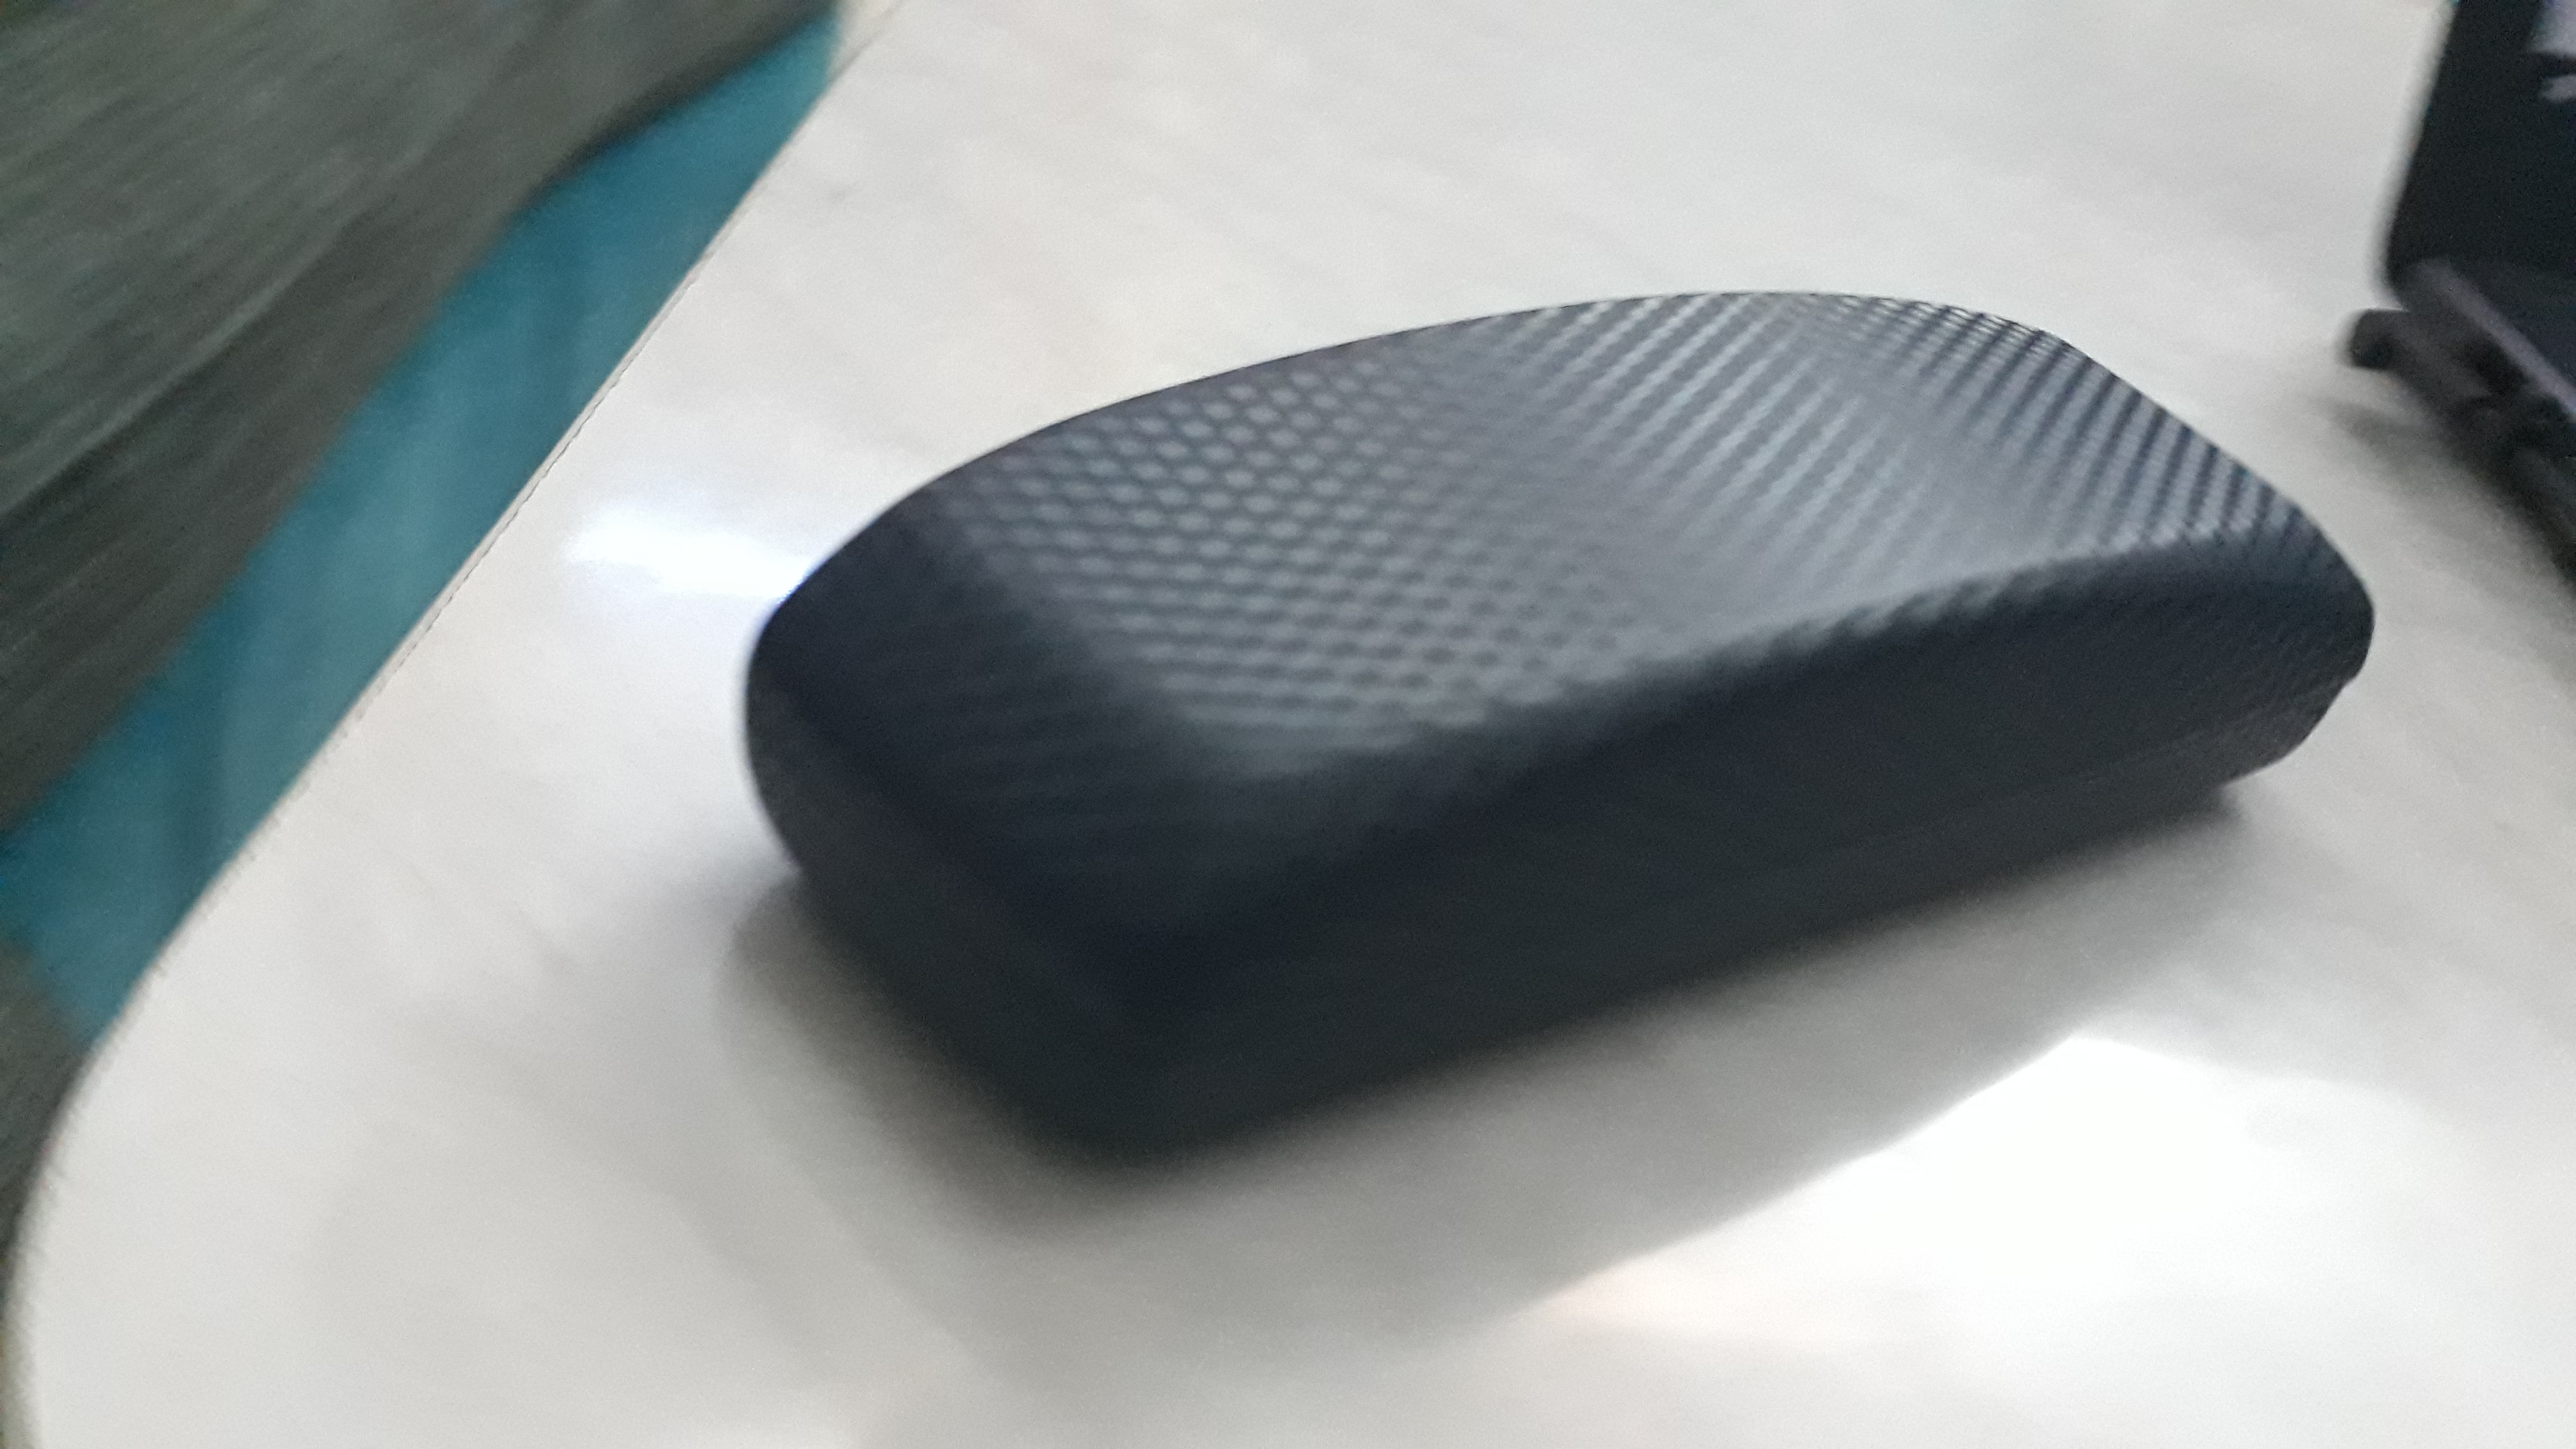nadar: (736, 177, 2369, 1185)
